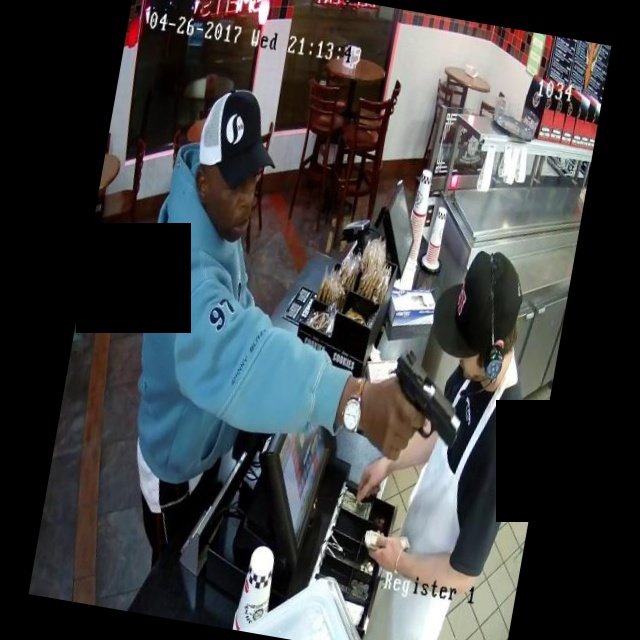gun: (364, 332, 489, 462)
